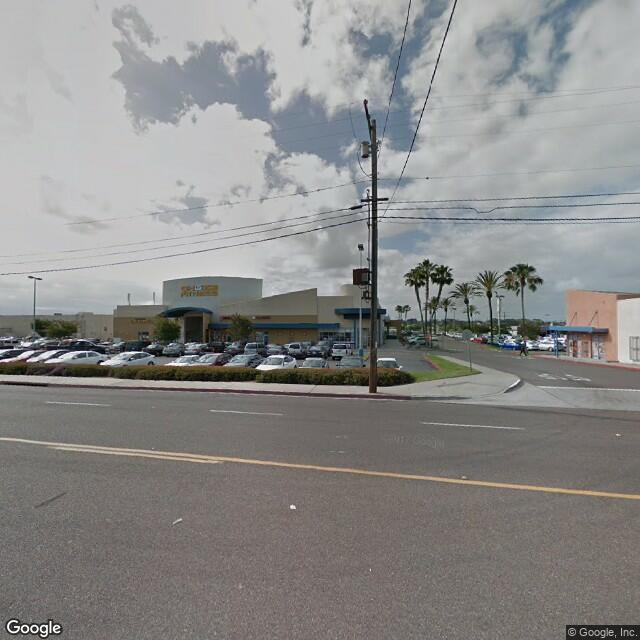litter: (290, 505, 305, 514)
